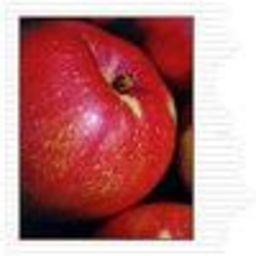apple: (17, 24, 178, 230)
